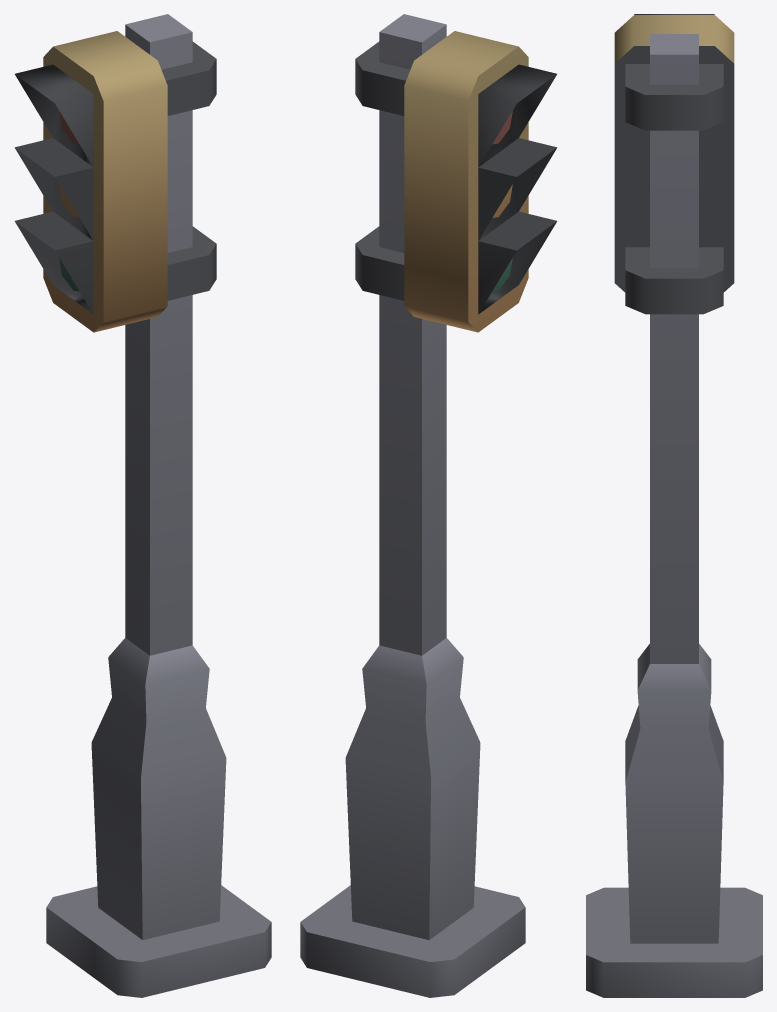
The model's file is traffic_light.glb.
3 views of the same model, side by side, from view 1: azimuth 30°, elevation 25°; view 2: azimuth 150°, elevation 25°; view 3: azimuth 270°, elevation 25° (orthographic).
Parts seen in each view (by area): view 1: traffic-light; view 2: traffic-light; view 3: traffic-light.
Boxes of the visible parts, x1,y1,x2,y2 form: traffic-light: (14,14,271,997); traffic-light: (300,14,557,997); traffic-light: (586,14,762,997).
Bounding box in the file's own units: 0.9408 × 4.12 × 0.72.
1 material, 1 textured.
